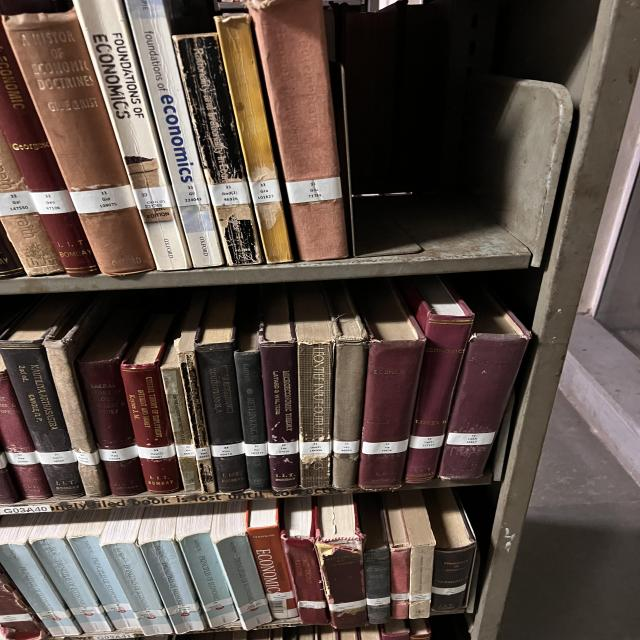Book: (3, 10, 155, 276), (73, 0, 192, 271), (247, 0, 348, 261), (125, 0, 223, 268), (0, 25, 98, 276), (173, 34, 263, 265), (215, 15, 293, 264), (0, 132, 63, 275)
Label: (70, 185, 135, 214), (287, 176, 342, 204), (30, 190, 75, 215), (208, 181, 250, 206), (0, 190, 37, 216), (133, 186, 172, 210), (173, 182, 210, 206), (250, 179, 282, 204)
